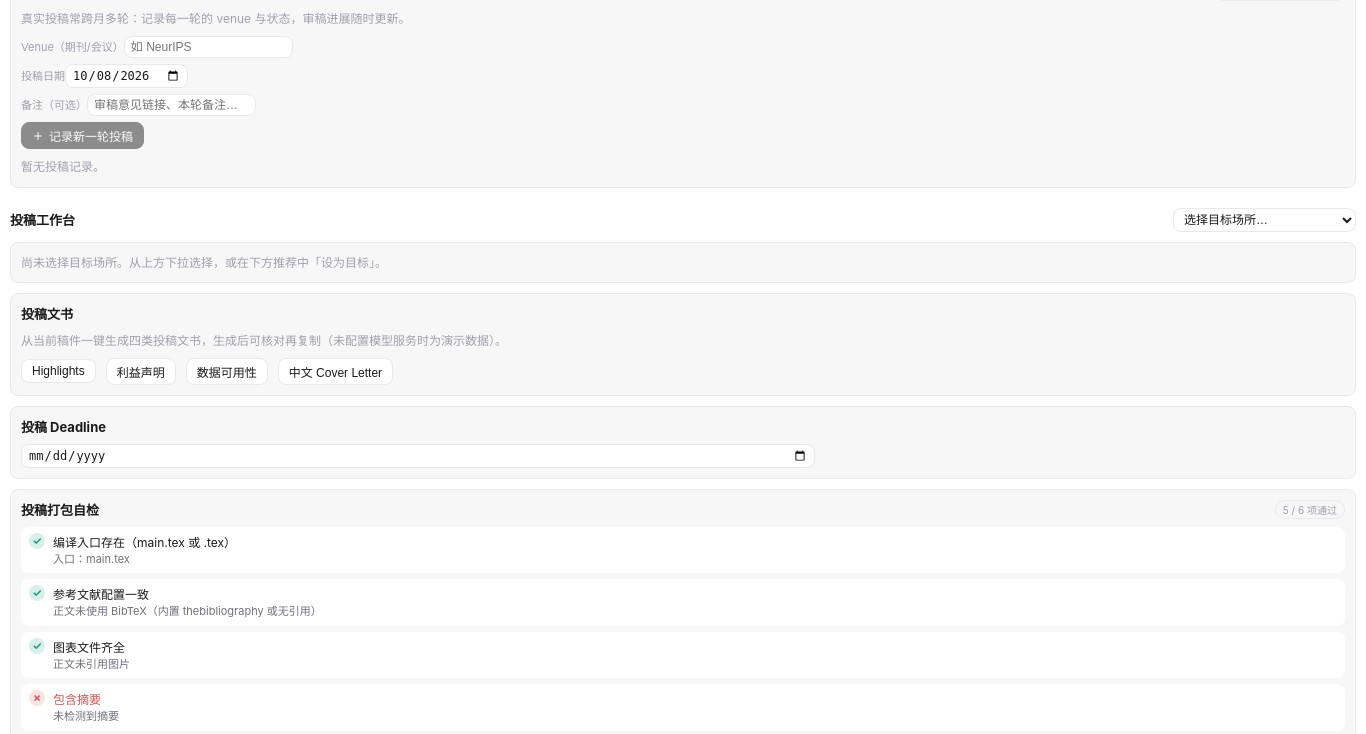
Test: SubmitPanel「投稿文书」区 › 生成失败：显示中文错误「生成失败：…」，按钮恢复可重试
This screenshot has width=1366, height=734.
(page scrolled)
Click the button "数据可用性".
click(227, 371)  # box [186,358,268,385]
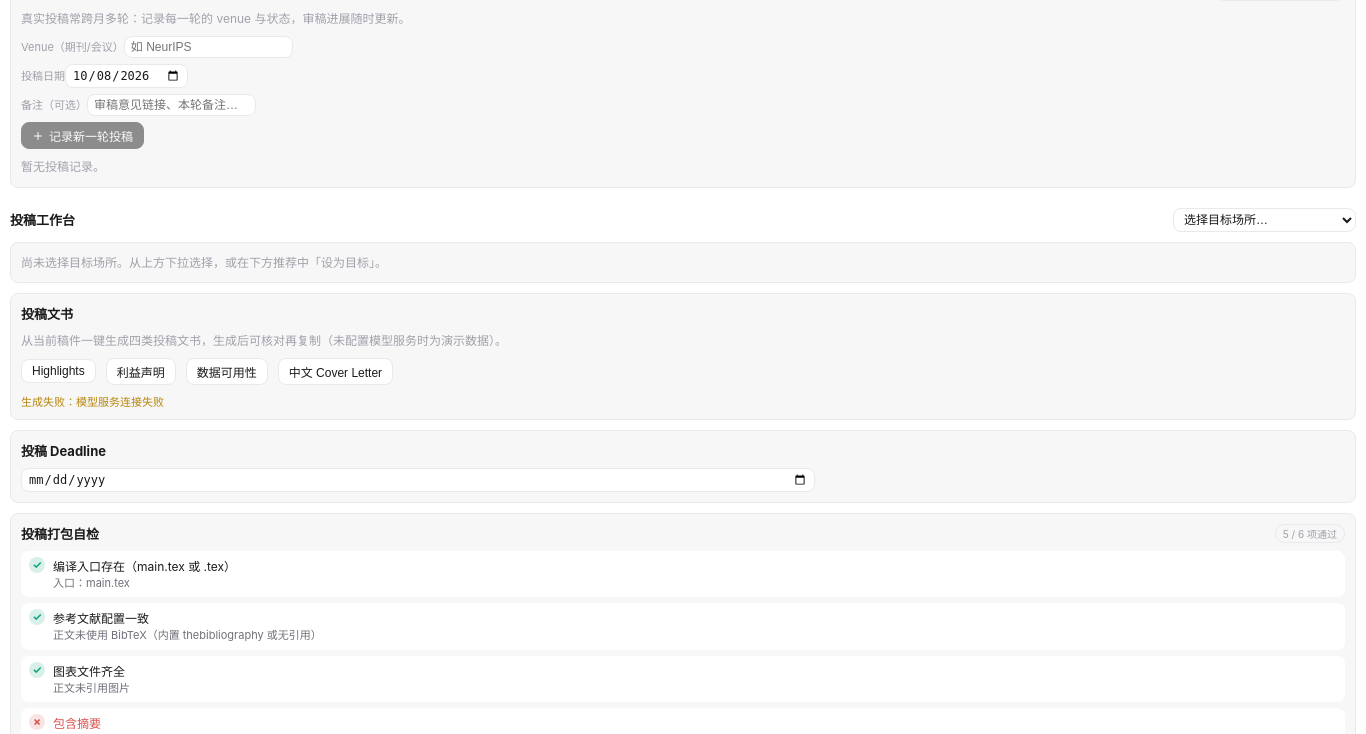
Now the text "生成失败：模型服务连接失败" is shown, box [21,395,164,409]
